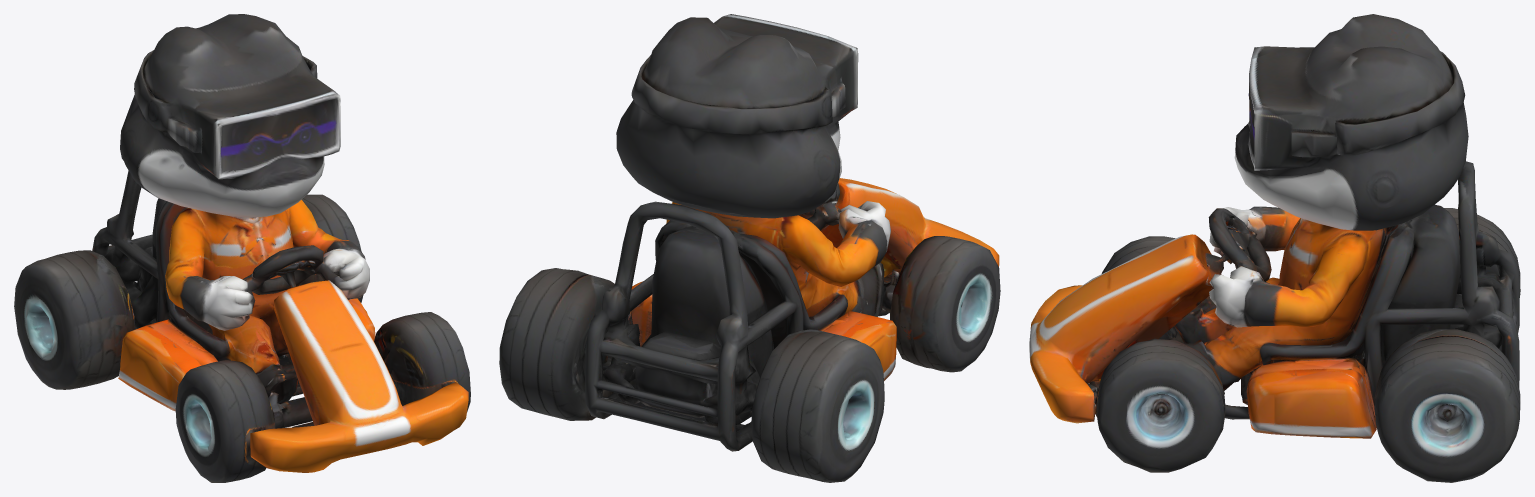
Rendered from btcfrog.glb.
The picture shows the model from 3 angles, left to right: view 1: azimuth 30°, elevation 25°; view 2: azimuth 150°, elevation 25°; view 3: azimuth 270°, elevation 25°; orthographic projection. The views are drawn at different scales.
Parts seen in each view (by area): view 1: Mesh_0; view 2: Mesh_0; view 3: Mesh_0.
Boxes of the visible parts, bbox=[...] form: Mesh_0: bbox=[14, 14, 470, 482]; Mesh_0: bbox=[499, 14, 1000, 482]; Mesh_0: bbox=[1029, 14, 1520, 482].
Size of the model in its own units: 0.8905 by 1 by 1.18.
Materials: 1 (1 with a texture image).
